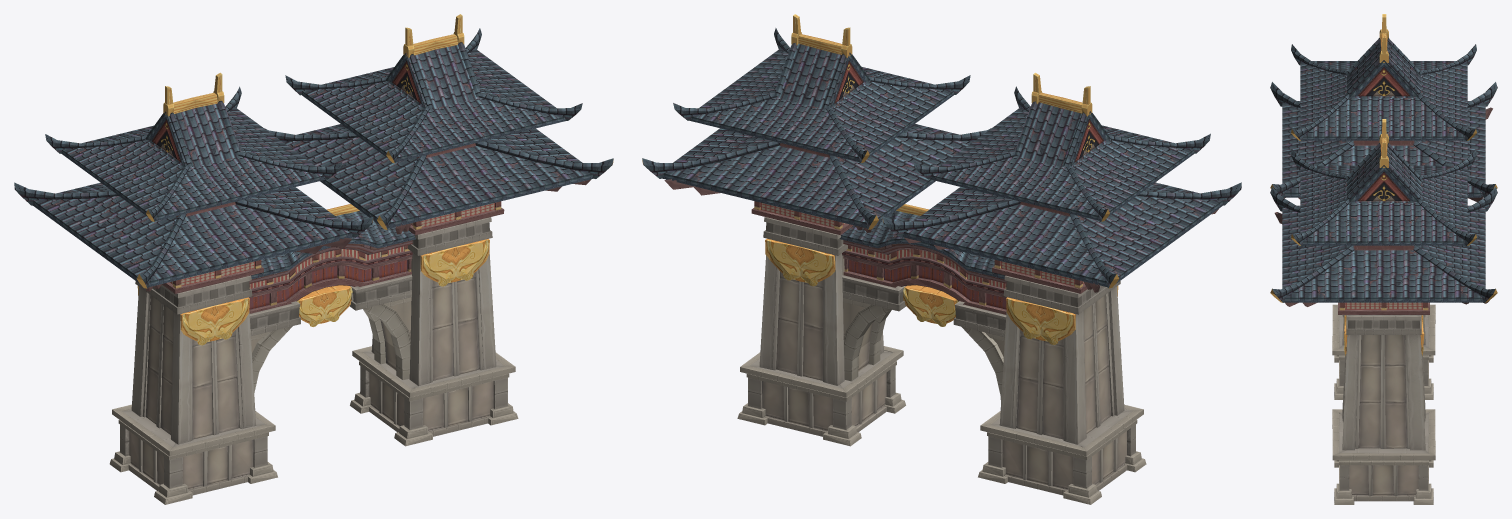
File: mod_zlc_jianzhu076_xy.FBX
3 views of the same model, side by side, from view 1: azimuth 30°, elevation 25°; view 2: azimuth 150°, elevation 25°; view 3: azimuth 270°, elevation 25° (orthographic). The views are drawn at different scales.
Visible parts, largest first — view 1: mod_zlc_jianzhu076_xy; view 2: mod_zlc_jianzhu076_xy; view 3: mod_zlc_jianzhu076_xy.
Part boxes in pixels (left/top/right/bottom): mod_zlc_jianzhu076_xy: left=14, top=14, right=613, bottom=504; mod_zlc_jianzhu076_xy: left=642, top=14, right=1241, bottom=504; mod_zlc_jianzhu076_xy: left=1270, top=14, right=1497, bottom=504.
Bounding box in the file's own units: 13770 × 10783 × 6363.
Materials: 4 (4 with a texture image).
